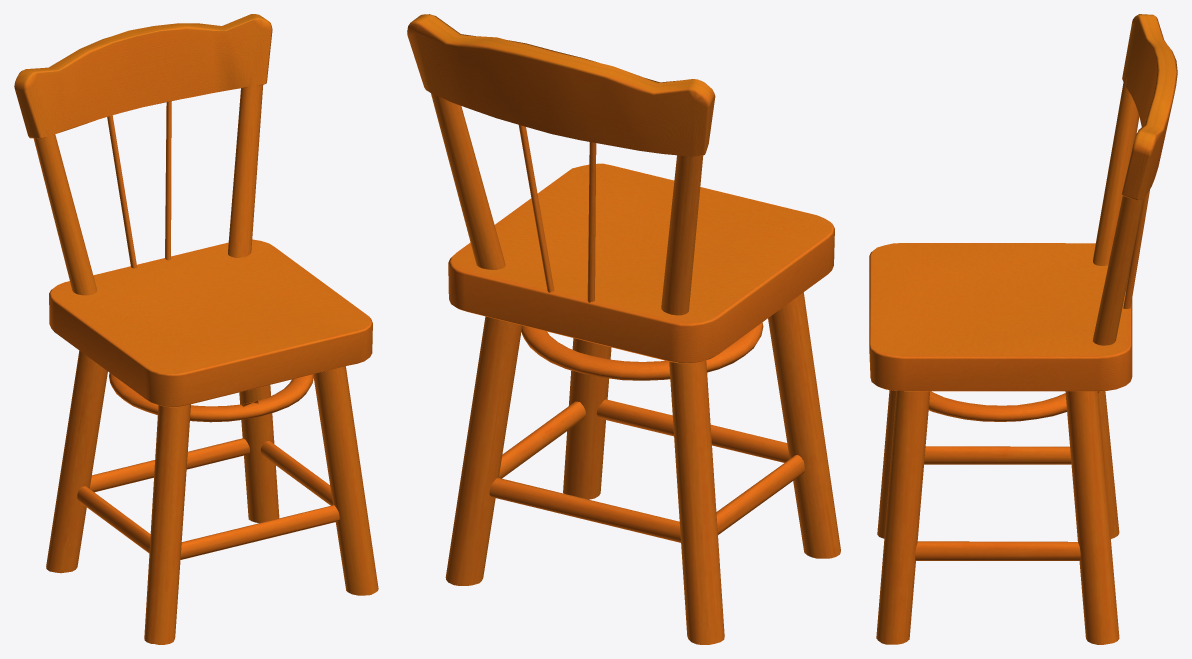
File: prop_chair_wood.glb
3 views of the same model, side by side, from view 1: azimuth 30°, elevation 25°; view 2: azimuth 150°, elevation 25°; view 3: azimuth 270°, elevation 25° (orthographic). The views are drawn at different scales.
Bounding box in the file's own units: 0.5455 × 1 × 0.5424.
Materials: 1 (1 with a texture image).
